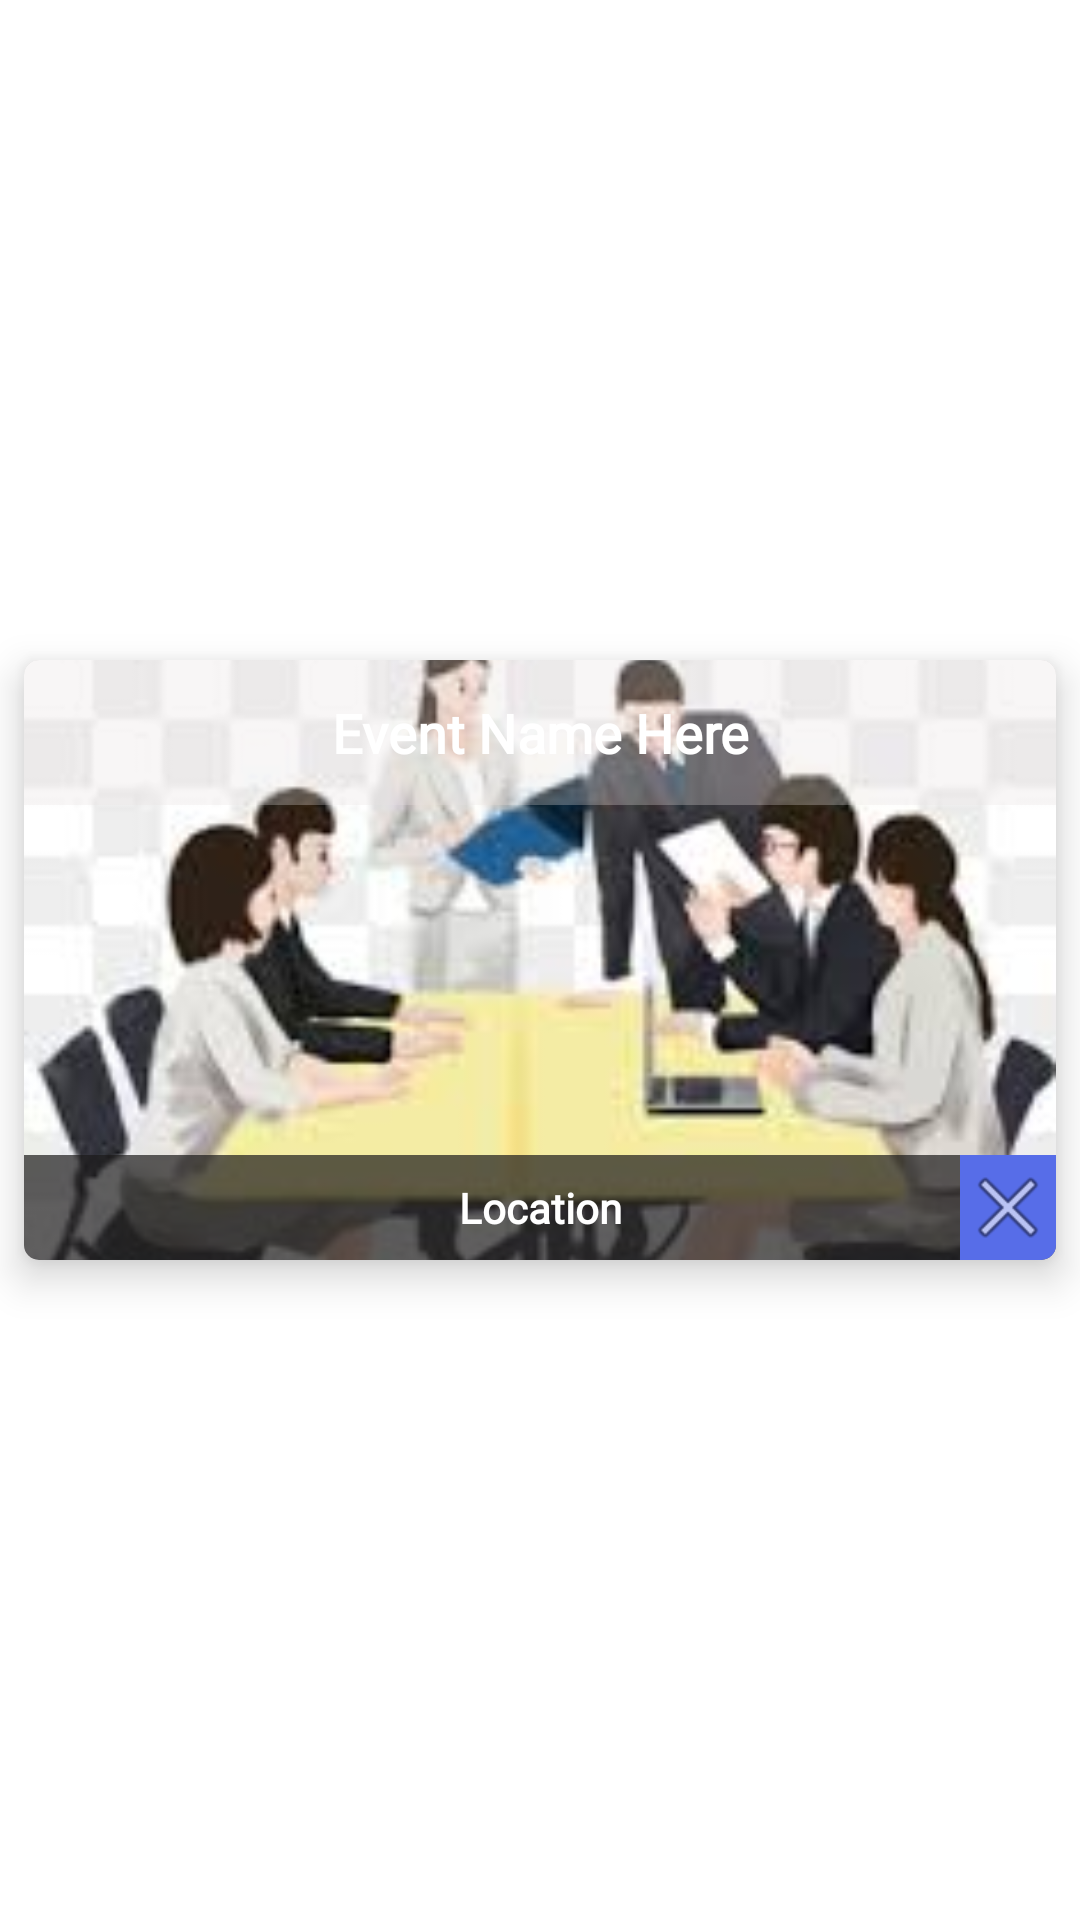

Screen size 1080 × 1920. Icon name, then its box in pixels as bbox=[x1, y1, x2, y2]:
close clear cancel: bbox=[960, 1155, 1056, 1260]
